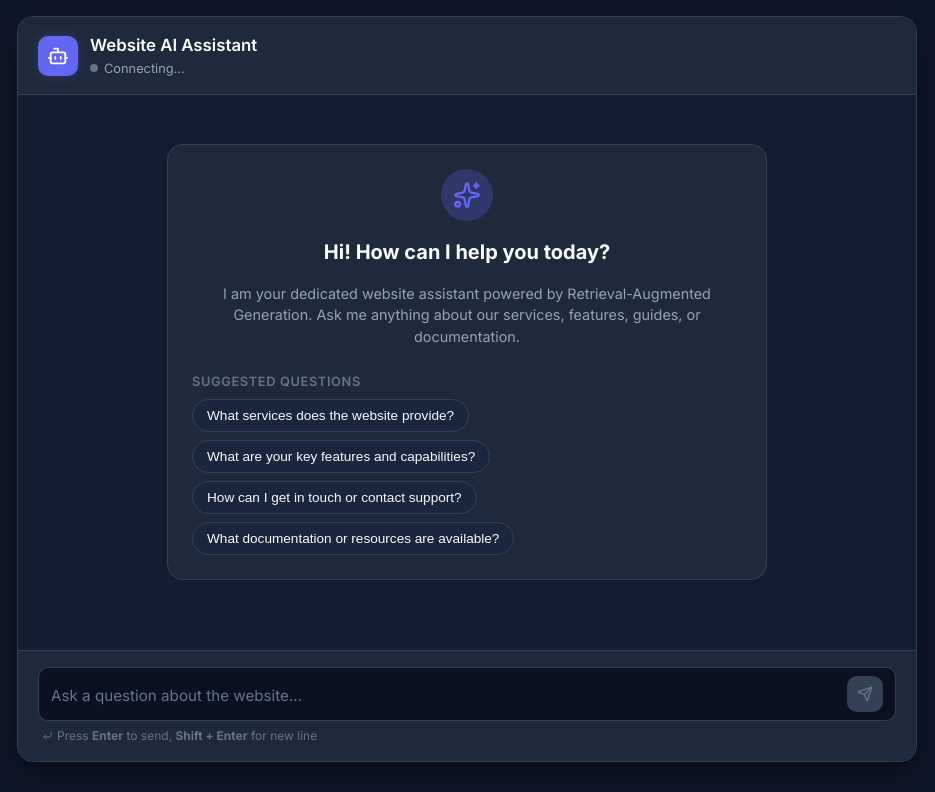
Scenario: Chatbot component › displays error banner and allows retry when API fails
The width and height of the screenshot is (935, 792).
In the text box named "Message input": (444, 696) top-left (51, 681), bottom-right (837, 712), type "Test query"
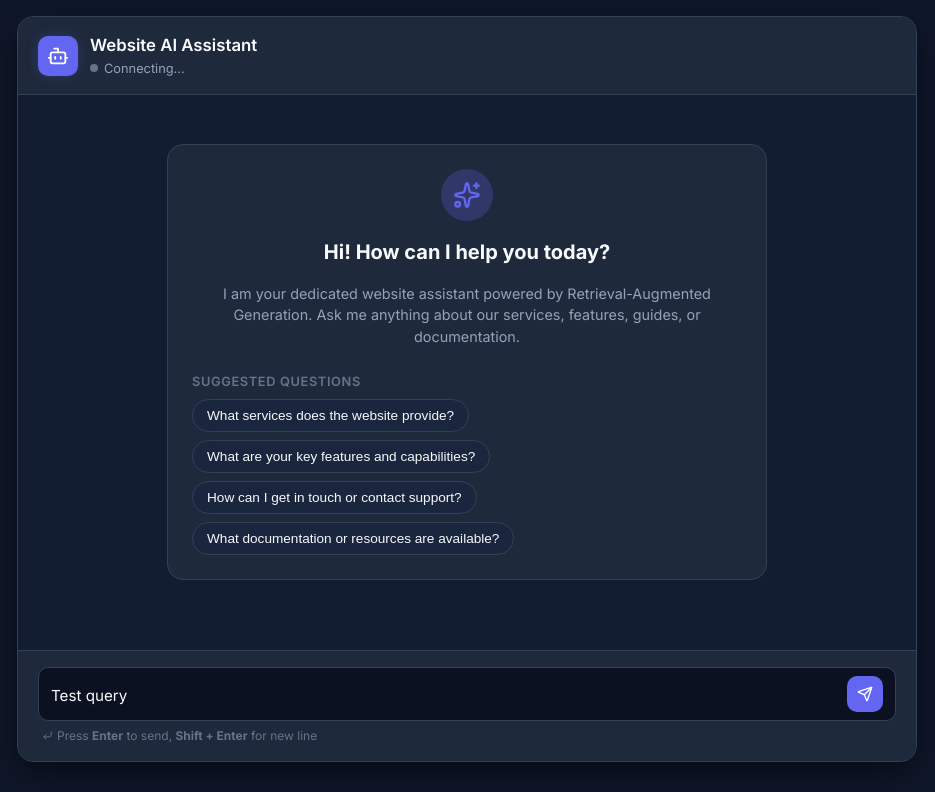
Submit the form named "Message input", box top-left (38, 667), bottom-right (896, 721)
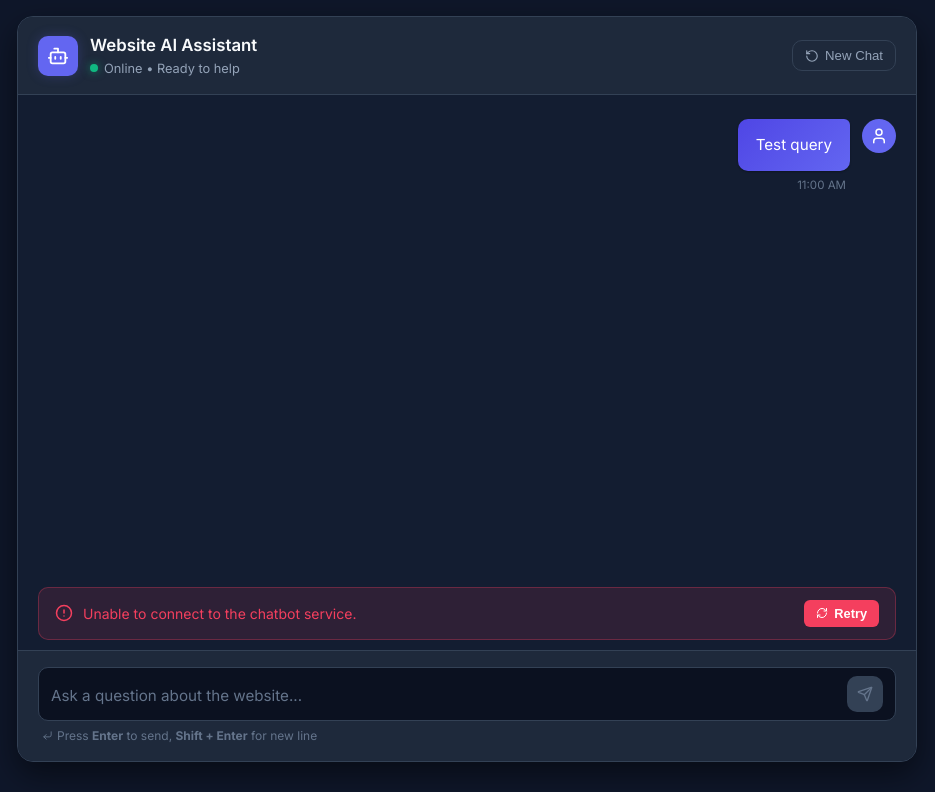
Check: the text "Unable to connect to the chatbot service." is shown, box top-left (83, 603), bottom-right (356, 624)
Check: the button "Retry" is shown
Click the button "Retry": (842, 613) top-left (804, 600), bottom-right (879, 627)
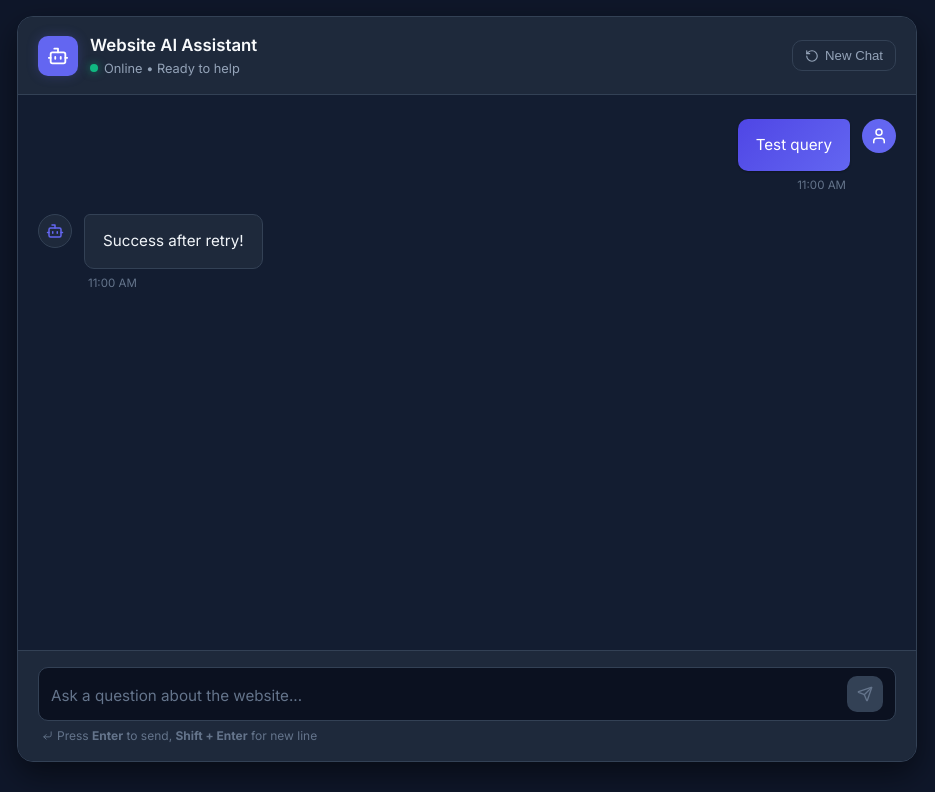
Check: the text "Success after retry!" is shown, box top-left (103, 229), bottom-right (244, 254)
